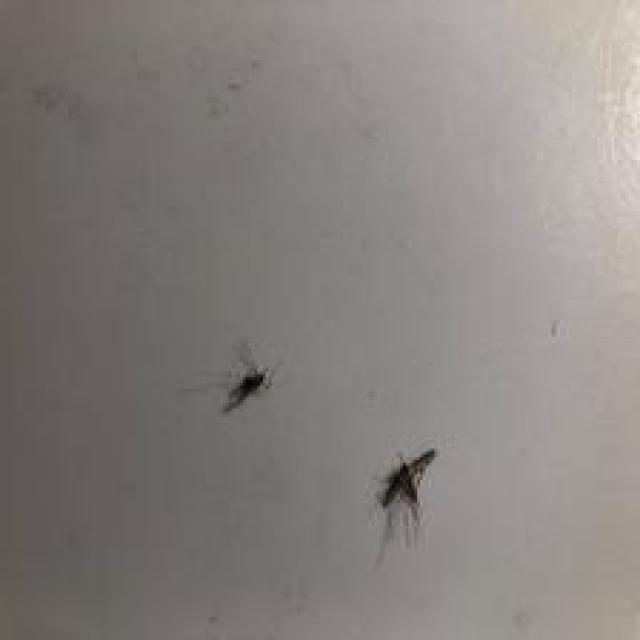Culex: (372, 447, 437, 567)
